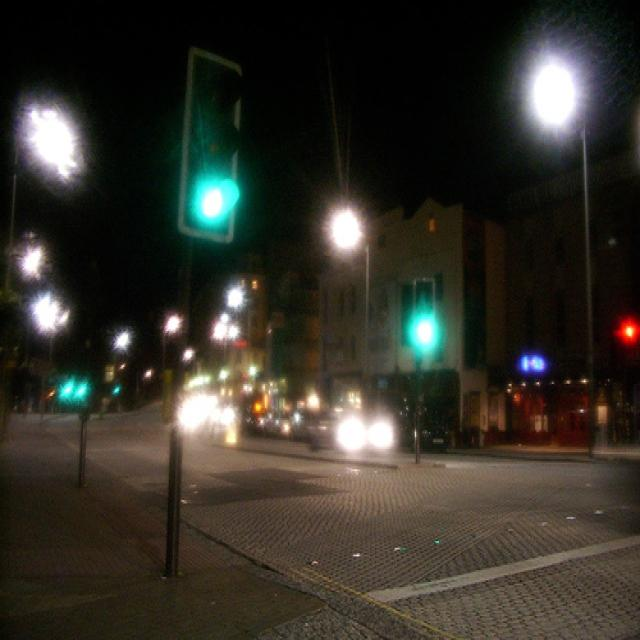Car: (318, 359, 401, 479)
